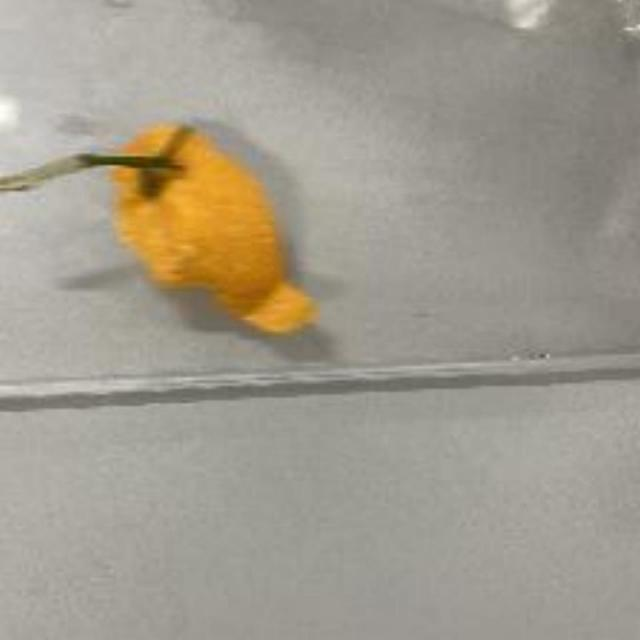orange peel: (109, 110, 313, 340)
